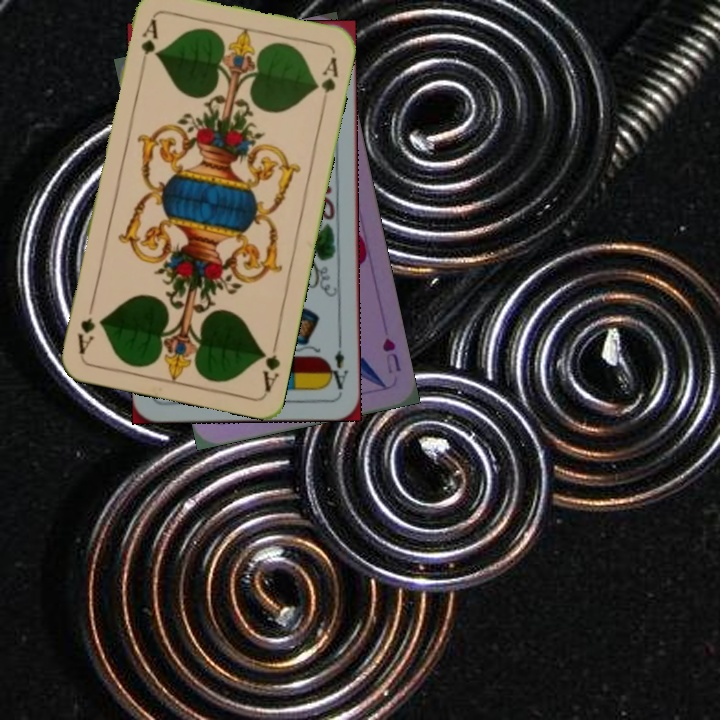EA: (324, 335, 351, 392)
GA: (257, 335, 283, 394), (137, 14, 161, 72)
HU: (378, 334, 404, 376)
